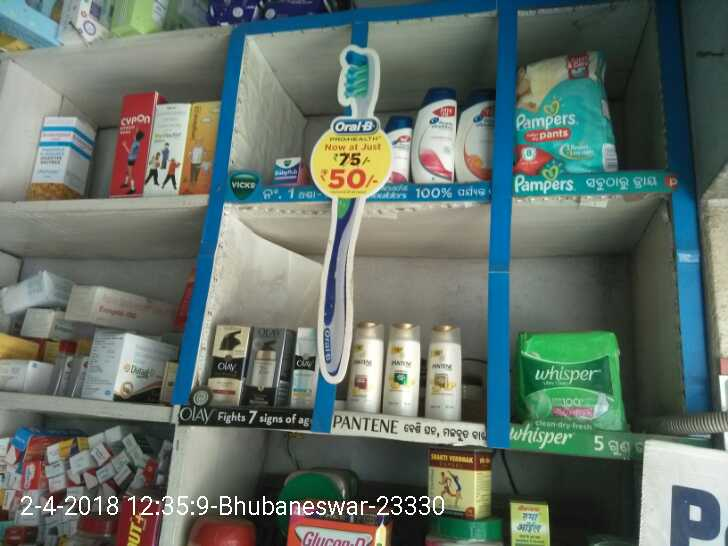vicks: (274, 156, 310, 185)
